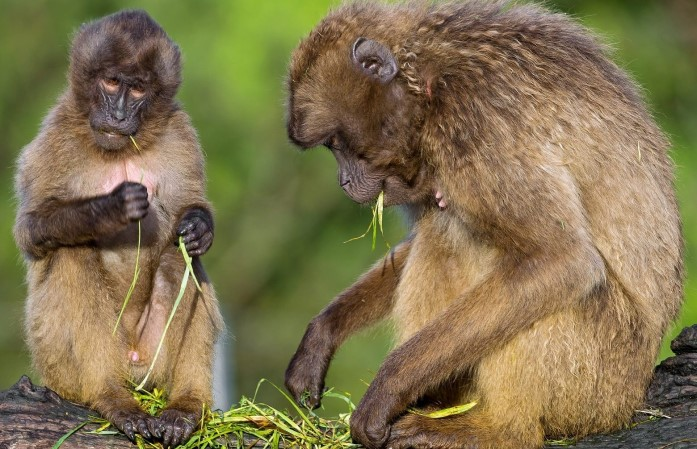Gelada: (286, 1, 687, 440), (26, 11, 227, 422)
